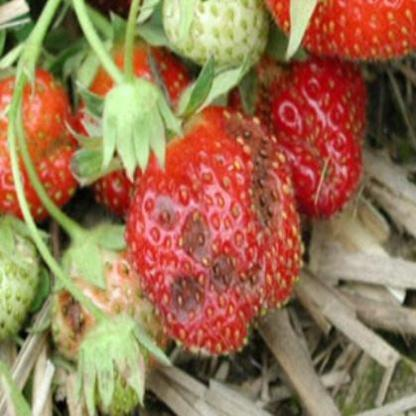Strawberry_Anthracnose_Fruit_Rot: (151, 111, 288, 322), (50, 252, 168, 364)
